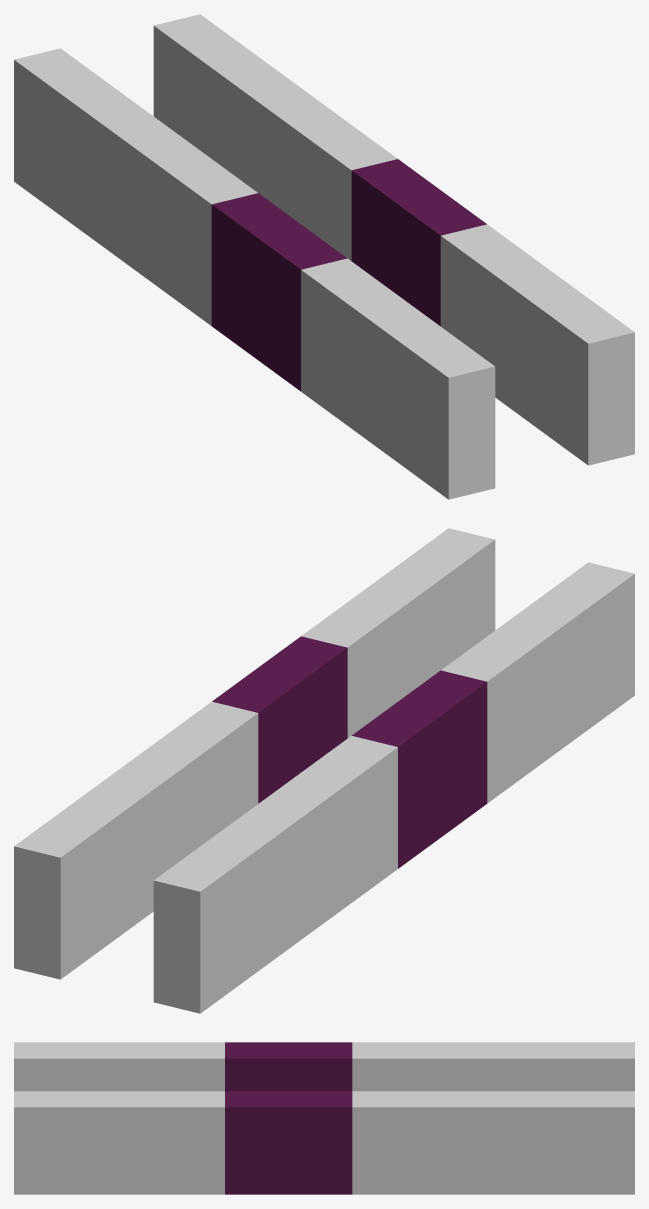
Rendered from WallTrap.fbx.
The picture shows the model from 3 angles, top to bottom: view 1: azimuth 30°, elevation 25°; view 2: azimuth 150°, elevation 25°; view 3: azimuth 270°, elevation 25°; orthographic projection. The views are drawn at different scales.
Parts seen in each view (by area): view 1: Cube.003, Cube, Cube.002, Cube.001, moving1, moving2; view 2: Cube.003, Cube.001, Cube, Cube.002, moving1, moving2; view 3: Cube.001, Cube.002, Cube.003, moving2, Cube, moving1.
Boxes of the visible parts, <box> form: Cube.003: <box>14,48,257,325</box>; Cube: <box>301,258,495,499</box>; Cube.002: <box>440,224,634,465</box>; Cube.001: <box>153,14,397,260</box>; moving1: <box>211,193,347,391</box>; moving2: <box>351,159,486,326</box>; Cube.003: <box>153,735,397,1013</box>; Cube.001: <box>14,701,258,979</box>; Cube: <box>441,562,634,803</box>; Cube.002: <box>301,528,495,737</box>; moving1: <box>352,670,487,868</box>; moving2: <box>212,636,347,803</box>; Cube.001: <box>352,1091,634,1194</box>; Cube.002: <box>14,1091,224,1194</box>; Cube.003: <box>352,1042,634,1091</box>; moving2: <box>225,1091,352,1194</box>; Cube: <box>14,1042,224,1091</box>; moving1: <box>225,1042,352,1091</box>.
Size of the model in its own units: 615 by 385 by 2486.
